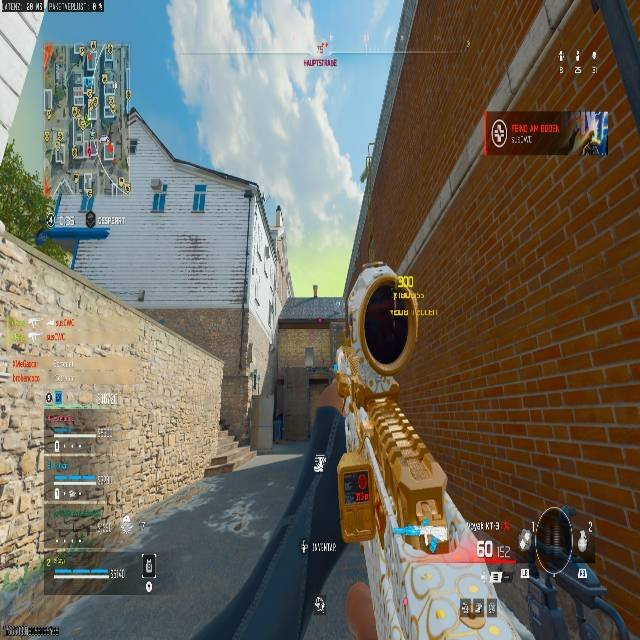head: (520, 506, 589, 570)
